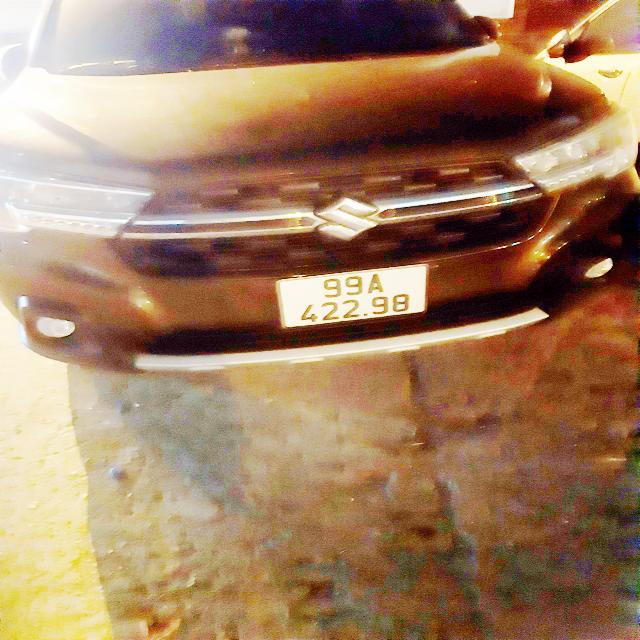license_plate: (265, 259, 433, 335)
